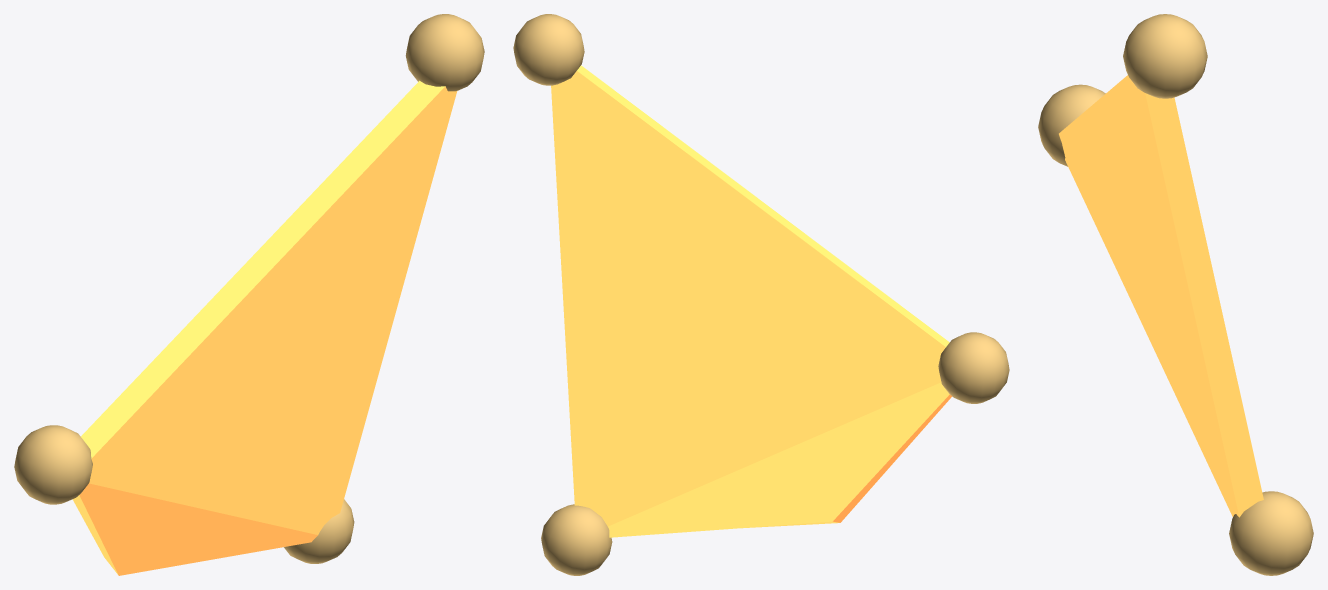
The model's file is wing_right.glb.
3 views of the same model, side by side, from view 1: azimuth 30°, elevation 25°; view 2: azimuth 150°, elevation 25°; view 3: azimuth 270°, elevation 25° (orthographic). The views are drawn at different scales.
Visible parts, largest first — view 1: Dragon wing, Wing tip, Wing tip.001, Wing tip.002; view 2: Dragon wing, Wing tip.001, Wing tip, Wing tip.002; view 3: Dragon wing, Wing tip.001, Wing tip.002, Wing tip.
Part boxes in pixels (x1=…): Dragon wing: x1=72, y1=80, x2=457, y2=575; Wing tip: x1=14, y1=425, x2=92, y2=504; Wing tip.001: x1=405, y1=14, x2=484, y2=91; Wing tip.002: x1=284, y1=499, x2=354, y2=563; Dragon wing: x1=551, y1=65, x2=951, y2=537; Wing tip.001: x1=513, y1=14, x2=584, y2=85; Wing tip: x1=938, y1=332, x2=1009, y2=403; Wing tip.002: x1=541, y1=504, x2=612, y2=575; Dragon wing: x1=1059, y1=75, x2=1263, y2=517; Wing tip.001: x1=1123, y1=14, x2=1207, y2=98; Wing tip.002: x1=1229, y1=491, x2=1313, y2=575; Wing tip: x1=1038, y1=84, x2=1105, y2=166.
Bounding box in the file's own units: 0.87 × 0.93 × 0.39.
